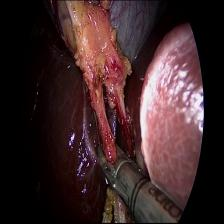Clipper: (94, 126, 140, 212)
